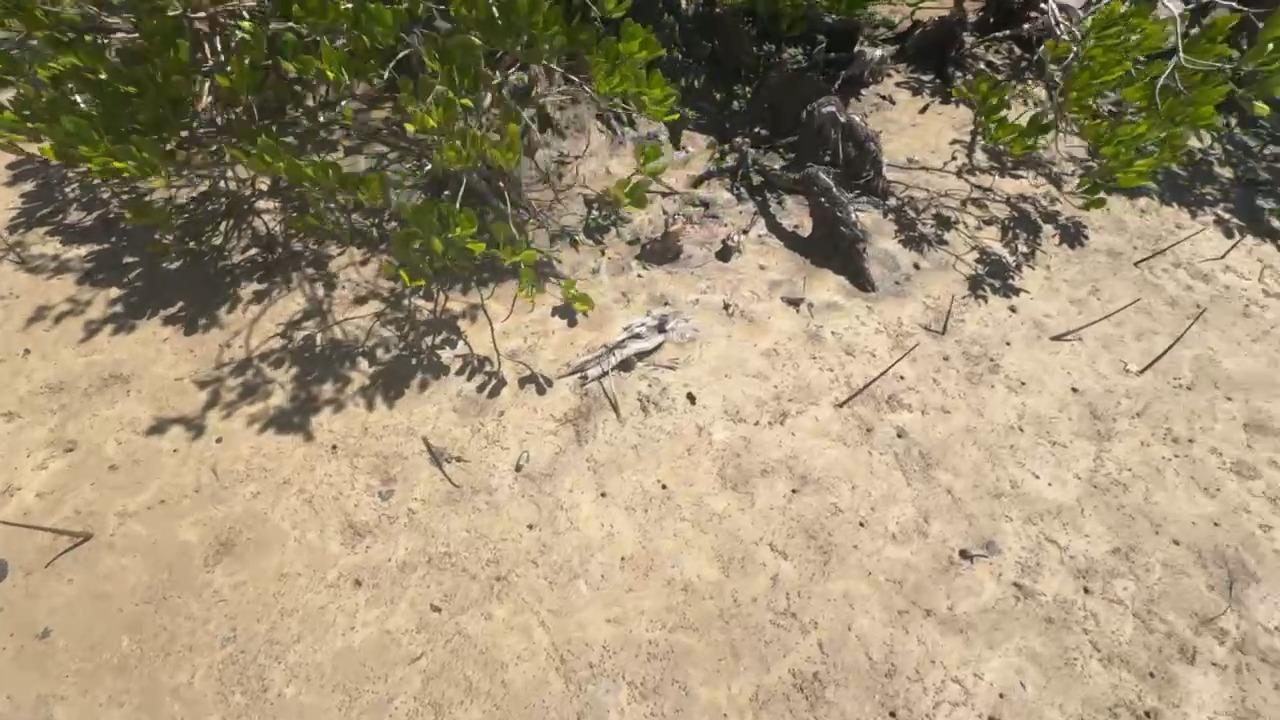Tree: (838, 344, 920, 407), (1139, 308, 1208, 376), (1049, 299, 1141, 340), (1133, 227, 1207, 265), (0, 521, 93, 540), (425, 438, 469, 467), (1221, 233, 1250, 258), (941, 295, 955, 335)
